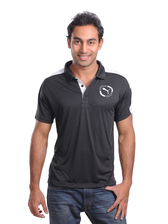clothoes: (32, 59, 133, 191)
